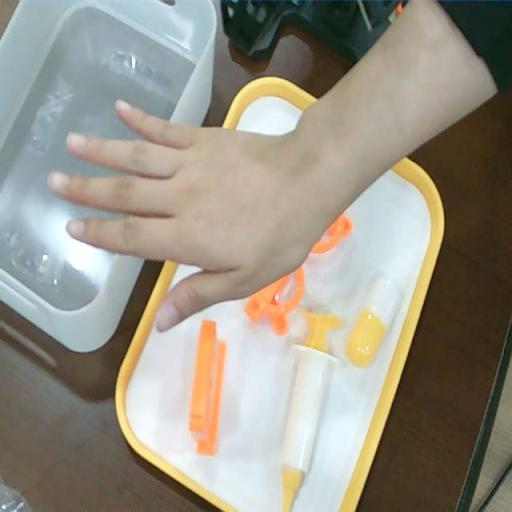hospital: (49, 98, 300, 333)
